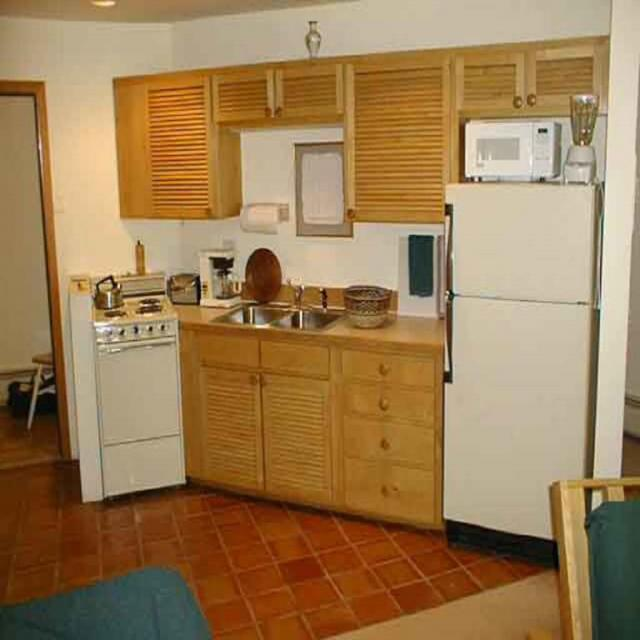door: (351, 70, 437, 222), (264, 374, 338, 502), (144, 84, 214, 218), (196, 360, 264, 493)
oven: (90, 315, 188, 508), (461, 113, 563, 179)
refrigerator: (445, 178, 583, 536)
tap: (285, 270, 313, 310)
wash basin: (287, 301, 338, 339), (236, 295, 286, 333)
